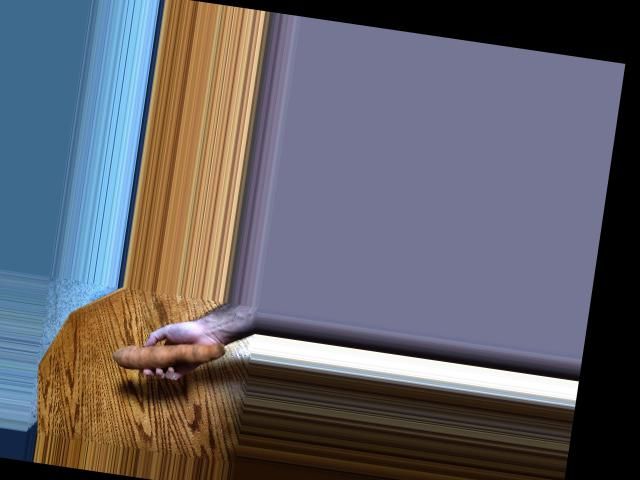sweet_potato: (105, 324, 220, 387)
